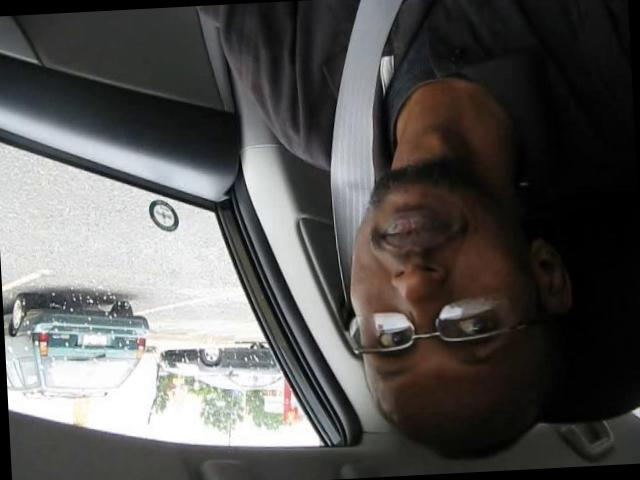eye_open: (436, 299, 510, 348), (372, 318, 418, 358)
face: (336, 166, 528, 412)
